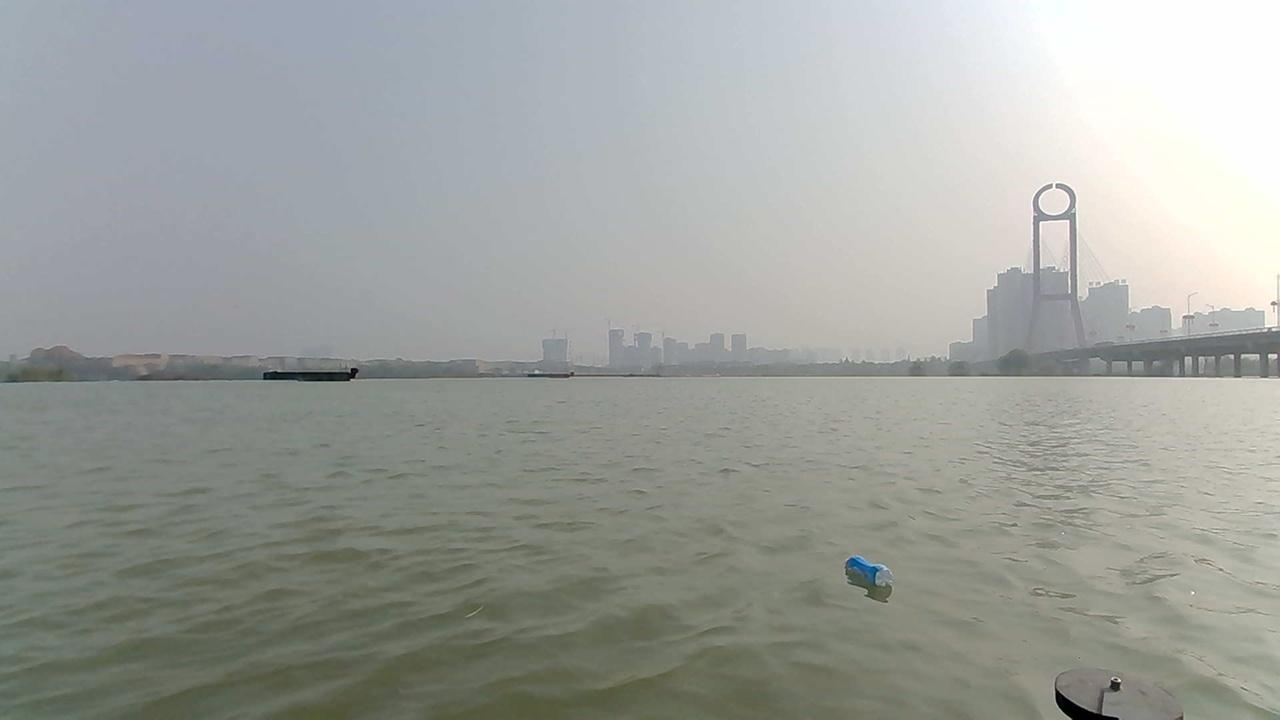bottle: (844, 553, 892, 589)
